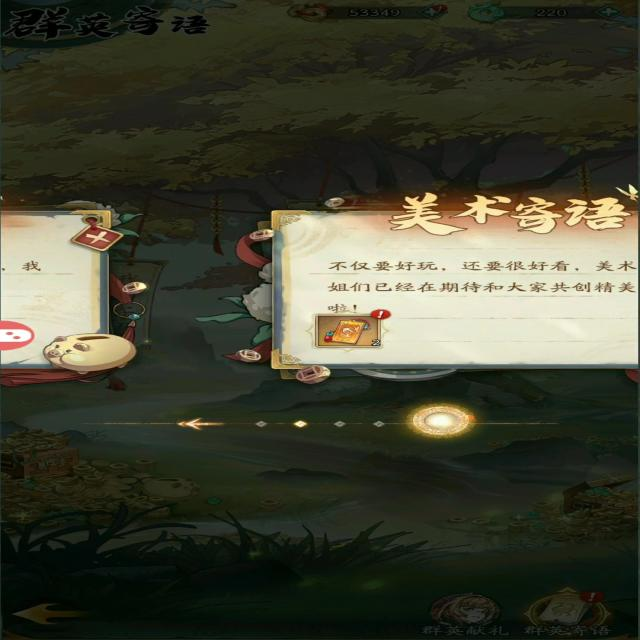hint-reddot: (358, 300, 399, 324), (452, 400, 484, 424)
operation-close: (69, 216, 162, 257)
operation-confirm: (298, 305, 411, 362)
operation-enter: (174, 408, 223, 441), (415, 408, 458, 437)
